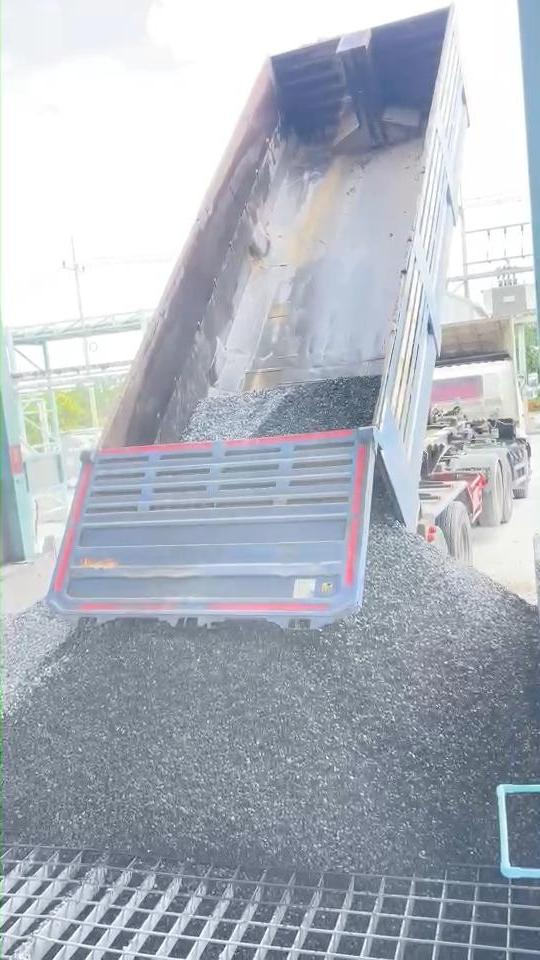gravel: (5, 507, 540, 872), (158, 376, 381, 441), (3, 600, 71, 712)
